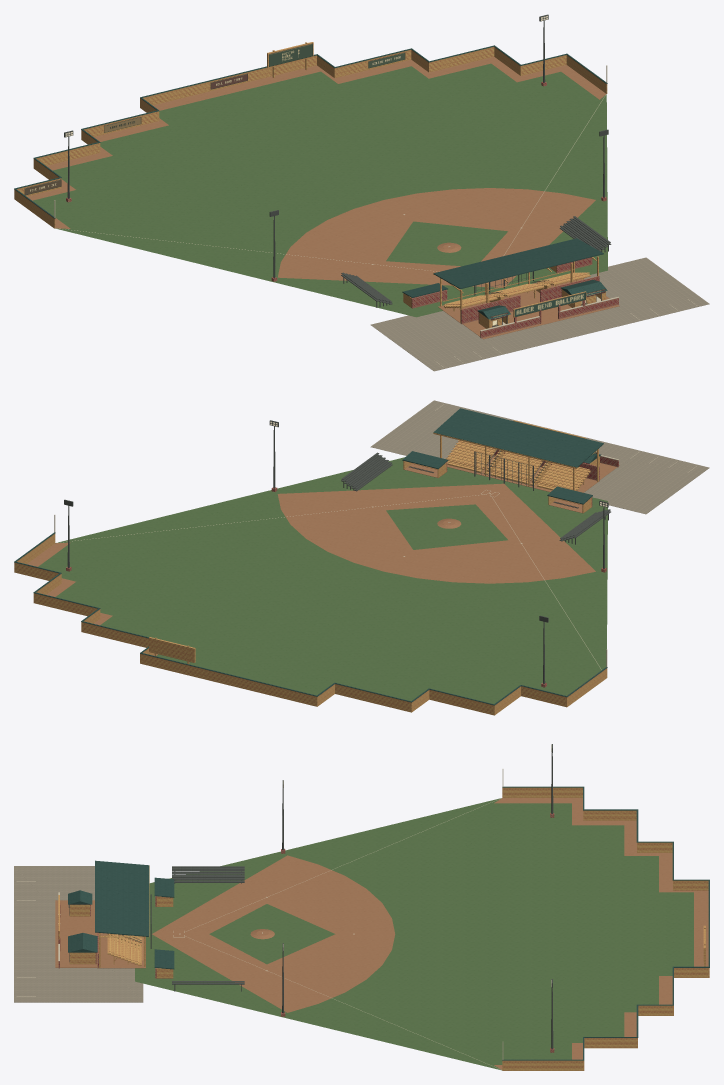
File: alder-bend-1960-mid.glb
3 views of the same model, one above another, from view 1: azimuth 30°, elevation 25°; view 2: azimuth 150°, elevation 25°; view 3: azimuth 270°, elevation 25° (orthographic).
Parts seen in each view (by area): view 1: diamond, lot, outfield_fence, grandstand, park_buildings, line_bleachers, light_towers, sign_name, sign_scoreboard; view 2: diamond, outfield_fence, grandstand, lot, park_buildings, line_bleachers, light_towers; view 3: diamond, lot, outfield_fence, grandstand, park_buildings, line_bleachers, light_towers.
Part boxes in pixels (left/top/right/bottom): diamond: left=27, top=57, right=607, bottom=317; lot: left=370, top=257, right=709, bottom=371; outfield_fence: left=14, top=42, right=607, bottom=228; grandstand: left=433, top=238, right=603, bottom=324; park_buildings: left=402, top=257, right=619, bottom=338; line_bleachers: left=341, top=216, right=611, bottom=307; light_towers: left=64, top=14, right=608, bottom=281; sign_name: left=514, top=292, right=585, bottom=316; sign_scoreboard: left=269, top=43, right=312, bottom=66; diamond: left=27, top=451, right=607, bottom=703; outfield_fence: left=14, top=514, right=607, bottom=715; grandstand: left=433, top=408, right=603, bottom=492; lot: left=370, top=400, right=709, bottom=514; park_buildings: left=402, top=420, right=618, bottom=513; line_bleachers: left=341, top=452, right=610, bottom=544; light_towers: left=64, top=420, right=608, bottom=687; diamond: left=135, top=798, right=708, bottom=1070; lot: left=14, top=866, right=143, bottom=1002; outfield_fence: left=502, top=769, right=709, bottom=1070; grandstand: left=95, top=860, right=149, bottom=968; park_buildings: left=58, top=877, right=174, bottom=978; line_bleachers: left=172, top=866, right=244, bottom=991; light_towers: left=281, top=744, right=554, bottom=1052.
Size of what is drawn, in the model's own units: 144 by 17.37 by 155.
Materials: 11 (11 with a texture image).
